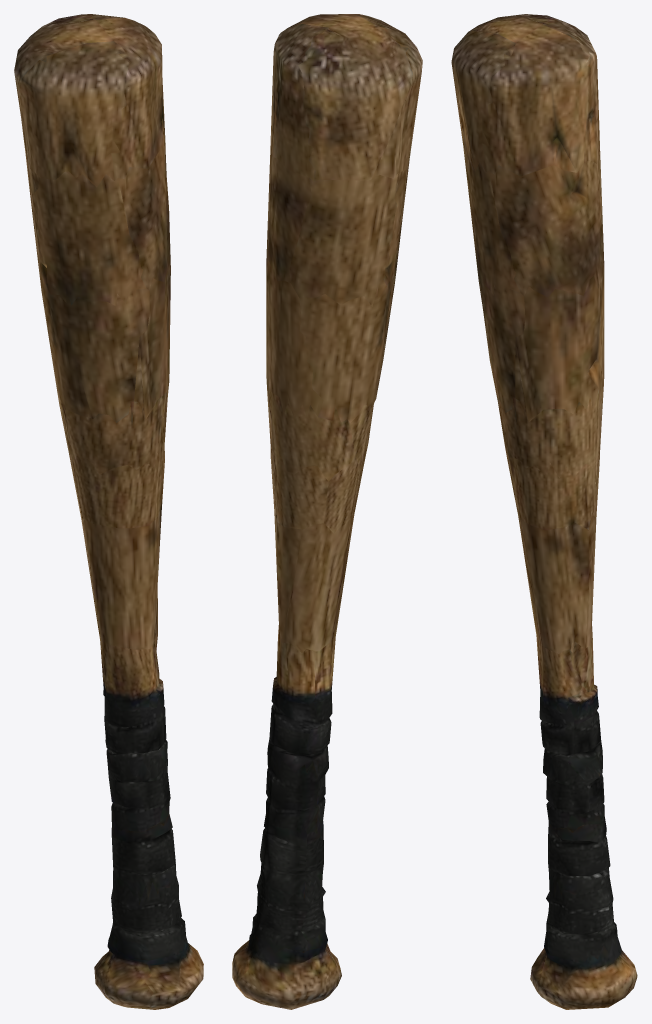
The model's file is melee_bat_lod1.glb.
The picture shows the model from 3 angles, left to right: view 1: azimuth 30°, elevation 25°; view 2: azimuth 150°, elevation 25°; view 3: azimuth 330°, elevation 25°; orthographic projection. The views are drawn at different scales.
Visible parts, largest first — view 1: melee_bat; view 2: melee_bat; view 3: melee_bat.
Part boxes in pixels (left/top/right/bottom): melee_bat: left=14, top=14, right=203, bottom=1009; melee_bat: left=232, top=14, right=422, bottom=1009; melee_bat: left=451, top=14, right=637, bottom=1009.
Bounding box in the file's own units: 0.1561 × 0.8396 × 0.1079.
Materials: 1 (1 with a texture image).
